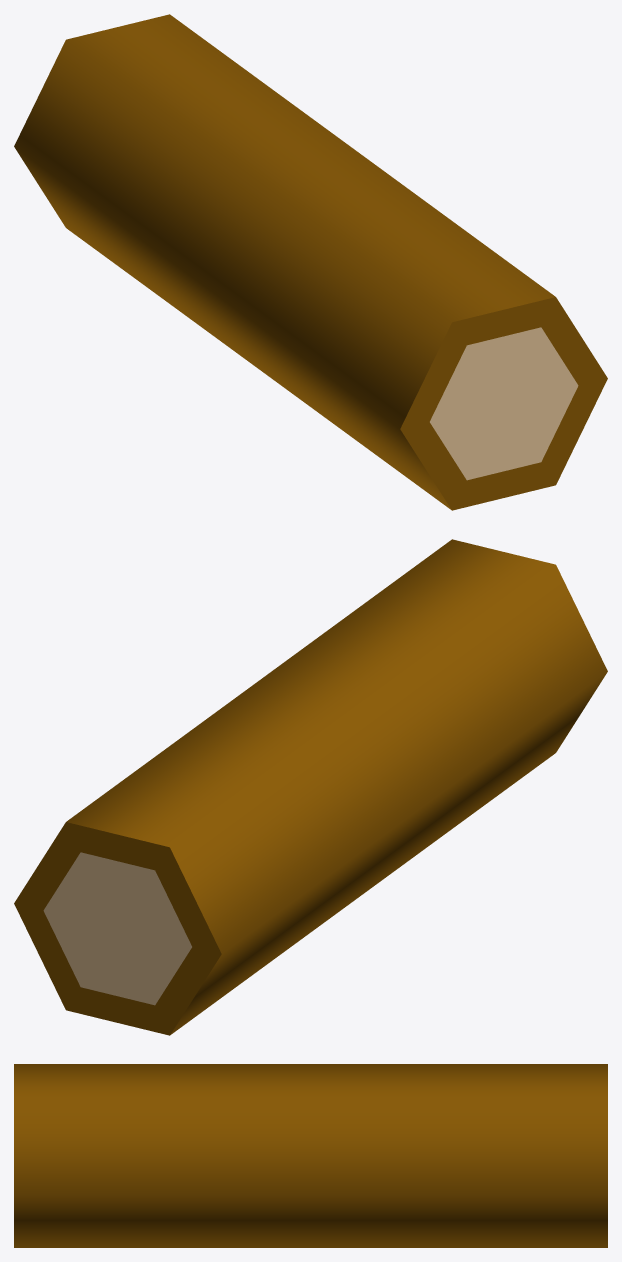
The model's file is log.fbx.
The picture shows the model from 3 angles, top to bottom: view 1: azimuth 30°, elevation 25°; view 2: azimuth 150°, elevation 25°; view 3: azimuth 270°, elevation 25°; orthographic projection. The views are drawn at different scales.
Parts seen in each view (by area): view 1: log; view 2: log; view 3: log.
Part boxes in pixels (bbox=[...]): log: bbox=[14, 14, 607, 510]; log: bbox=[14, 539, 607, 1035]; log: bbox=[14, 1064, 607, 1247].
Bounding box in the file's own units: 99.43 × 86.11 × 320.
